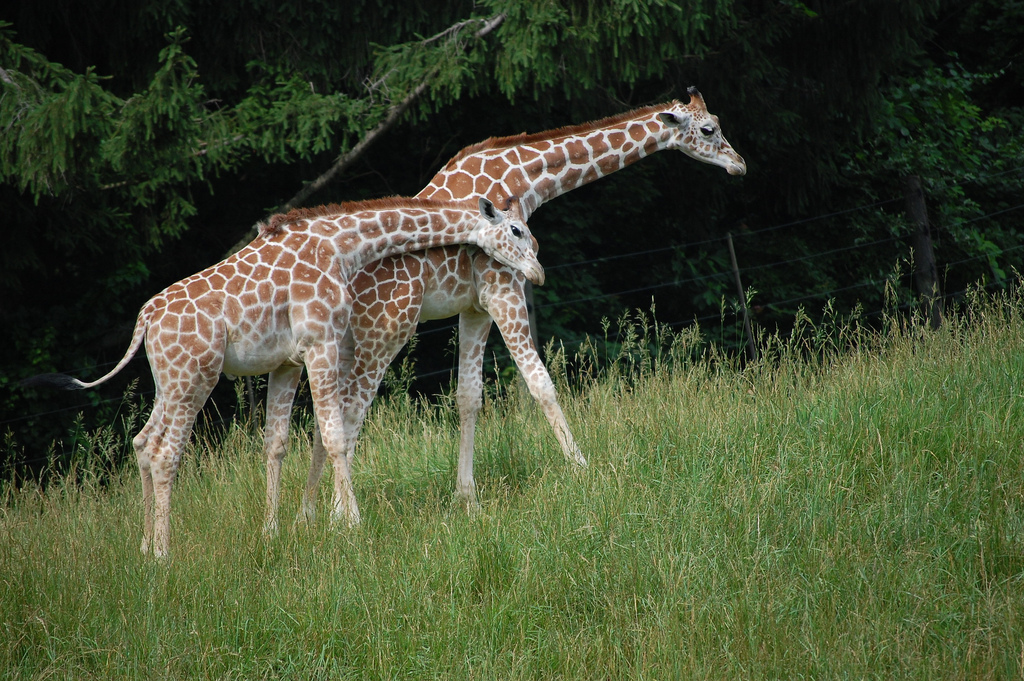giraffe: (103, 181, 559, 563), (403, 79, 794, 514)
